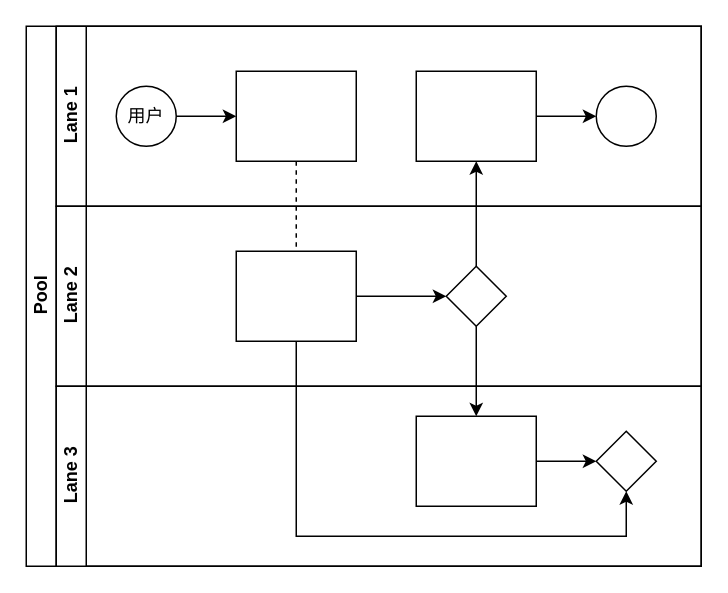
The diagram is 728 pixels wide and 593 high, and some of its shapes have lost their labels. The shapes that lost their labels are listed below. From the top down, each one's centre as x and y in pixels, then its label:
point 295,115: 前端
point 295,295: .Net Core 接口
